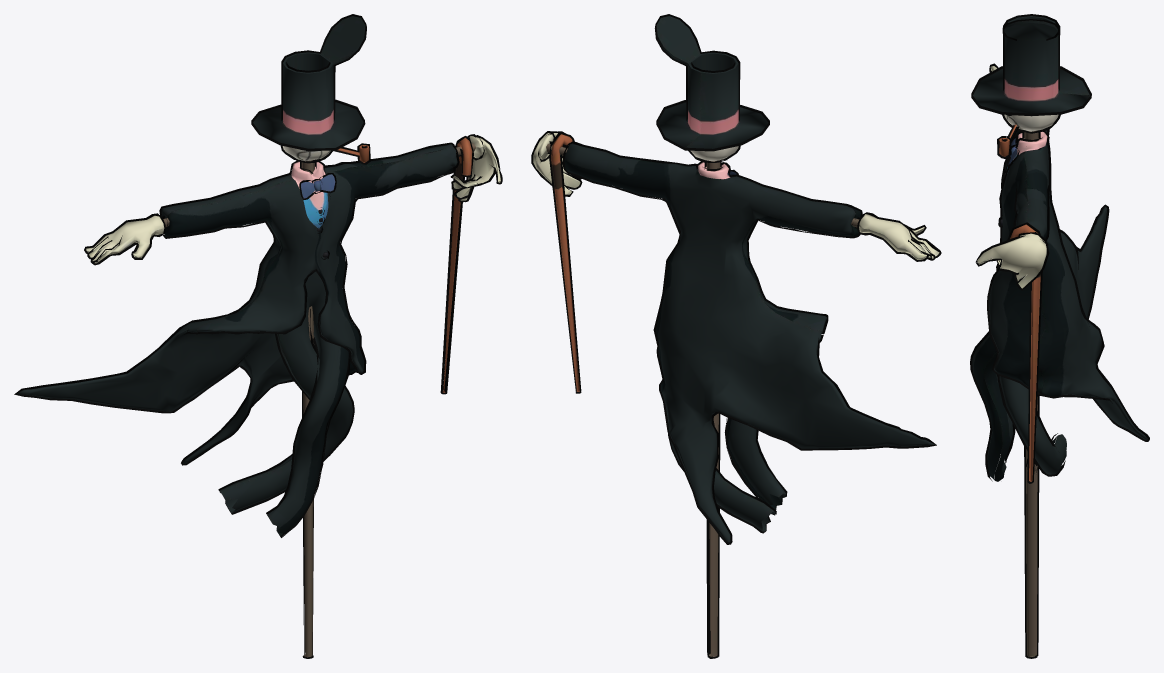
Rendered from epouvantail.glb.
3 views of the same model, side by side, from view 1: azimuth 30°, elevation 25°; view 2: azimuth 150°, elevation 25°; view 3: azimuth 270°, elevation 25° (orthographic). The views are drawn at different scales.
Visible parts, largest first — view 1: tn4_Outline_0; view 2: tn4_Outline_0; view 3: tn4_Outline_0.
Boxes of the visible parts, <box> form: tn4_Outline_0: <box>14,14,502,658</box>; tn4_Outline_0: <box>531,14,941,658</box>; tn4_Outline_0: <box>970,14,1149,658</box>.
Size of the model in its own units: 5.93 by 8.11 by 1.99.
Materials: 2 (1 with a texture image).
